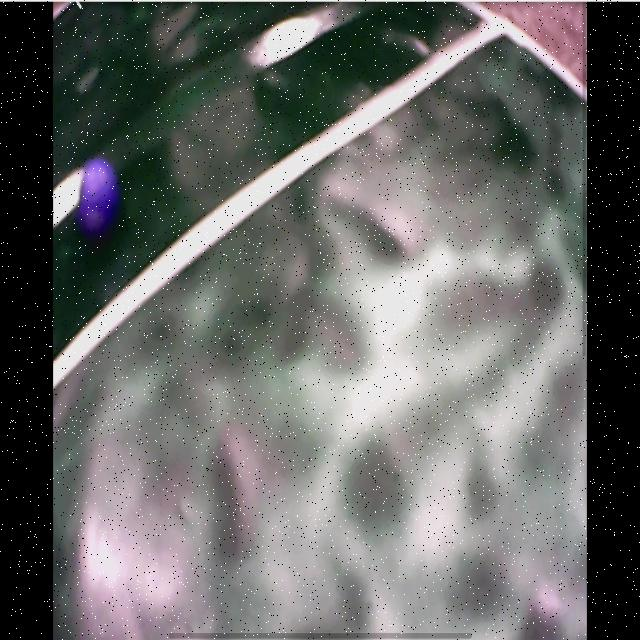ball: (78, 160, 118, 225)
